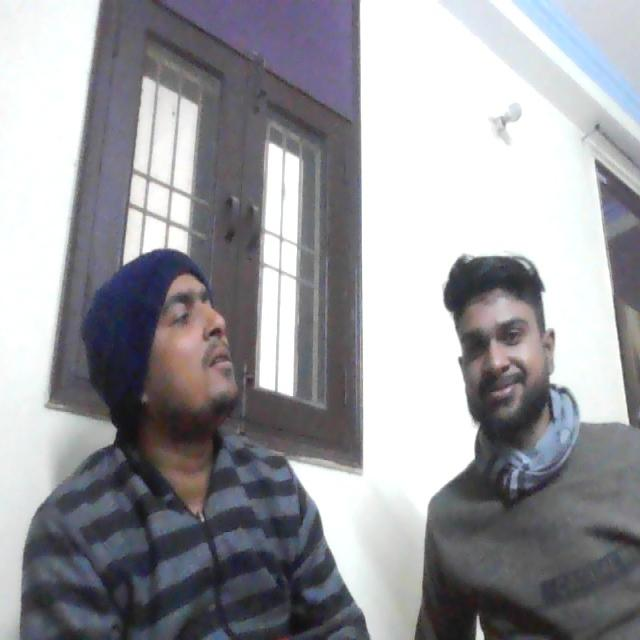real: (128, 200, 251, 433), (453, 251, 549, 432)
